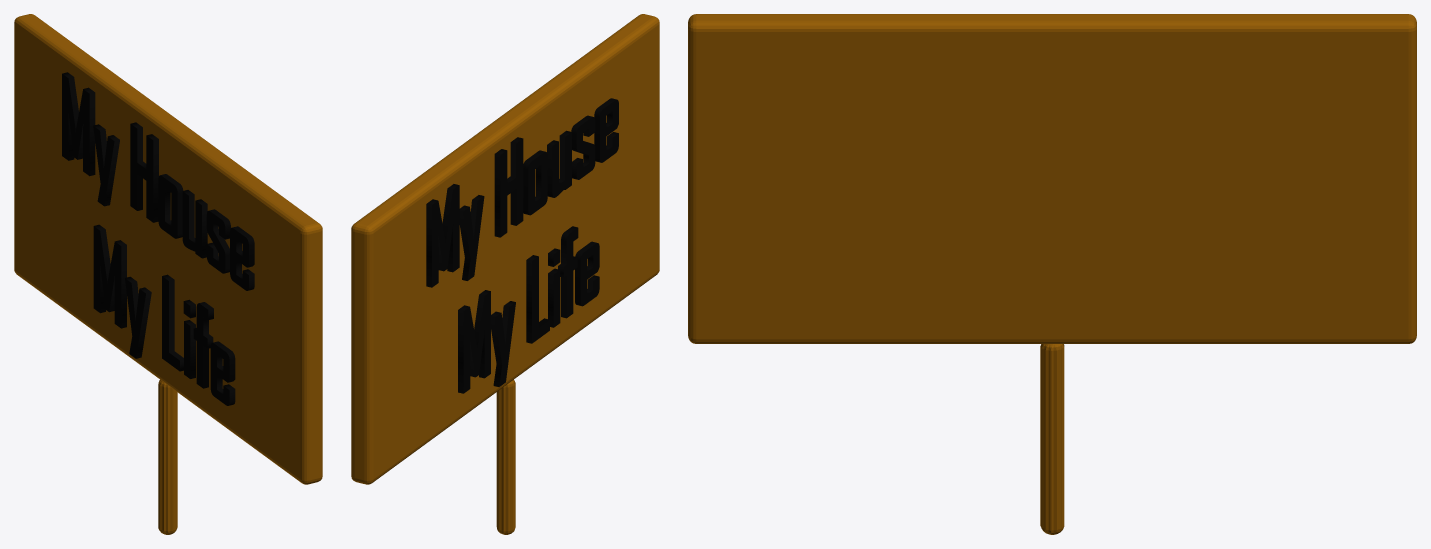
The model's file is placa.fbx.
The picture shows the model from 3 angles, left to right: view 1: azimuth 30°, elevation 25°; view 2: azimuth 150°, elevation 25°; view 3: azimuth 270°, elevation 25°; orthographic projection. The views are drawn at different scales.
Visible parts, largest first — view 1: Cube, Text; view 2: Cube, Text; view 3: Cube.
Part boxes in pixels (x1,y1,x2,y2): Cube: [14, 14, 322, 534]; Text: [62, 72, 254, 405]; Cube: [351, 14, 659, 534]; Text: [426, 98, 618, 393]; Cube: [688, 14, 1416, 534].
Size of the model in its own units: 22.1 by 320 by 410.
